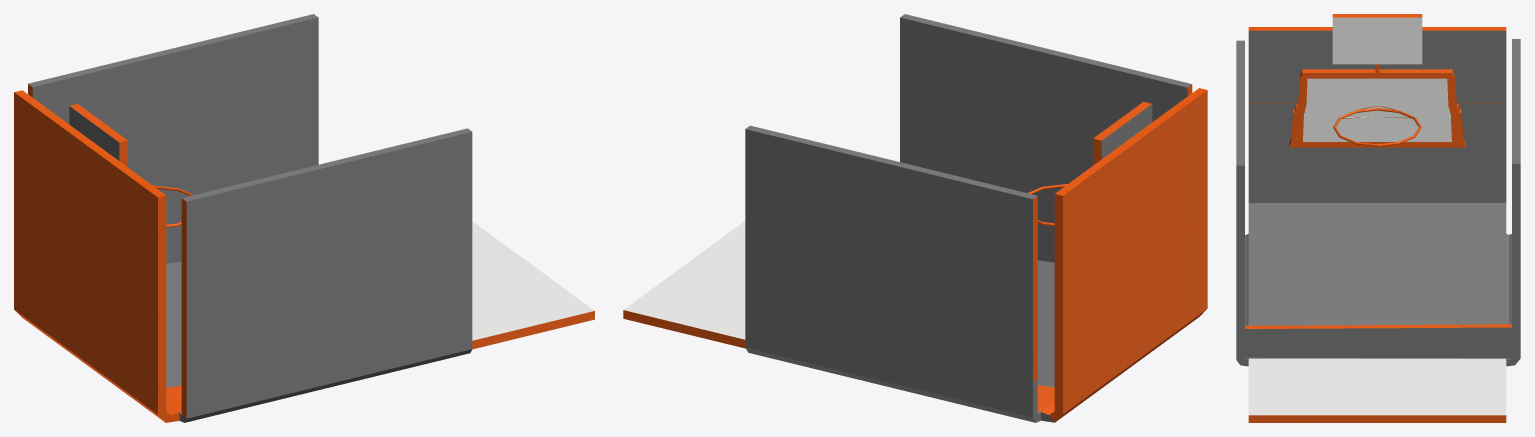
File: basketball_arcade.fbx
3 views of the same model, side by side, from view 1: azimuth 30°, elevation 25°; view 2: azimuth 150°, elevation 25°; view 3: azimuth 270°, elevation 25° (orthographic). The views are drawn at different scales.
Visible parts, largest first — view 1: Cube; view 2: Cube; view 3: Cube.
Part boxes in pixels (<box>): Cube: <box>14,14,594,422</box>; Cube: <box>623,14,1207,422</box>; Cube: <box>1236,14,1520,422</box>.
Size of the model in its own units: 1053 by 569 by 662.
